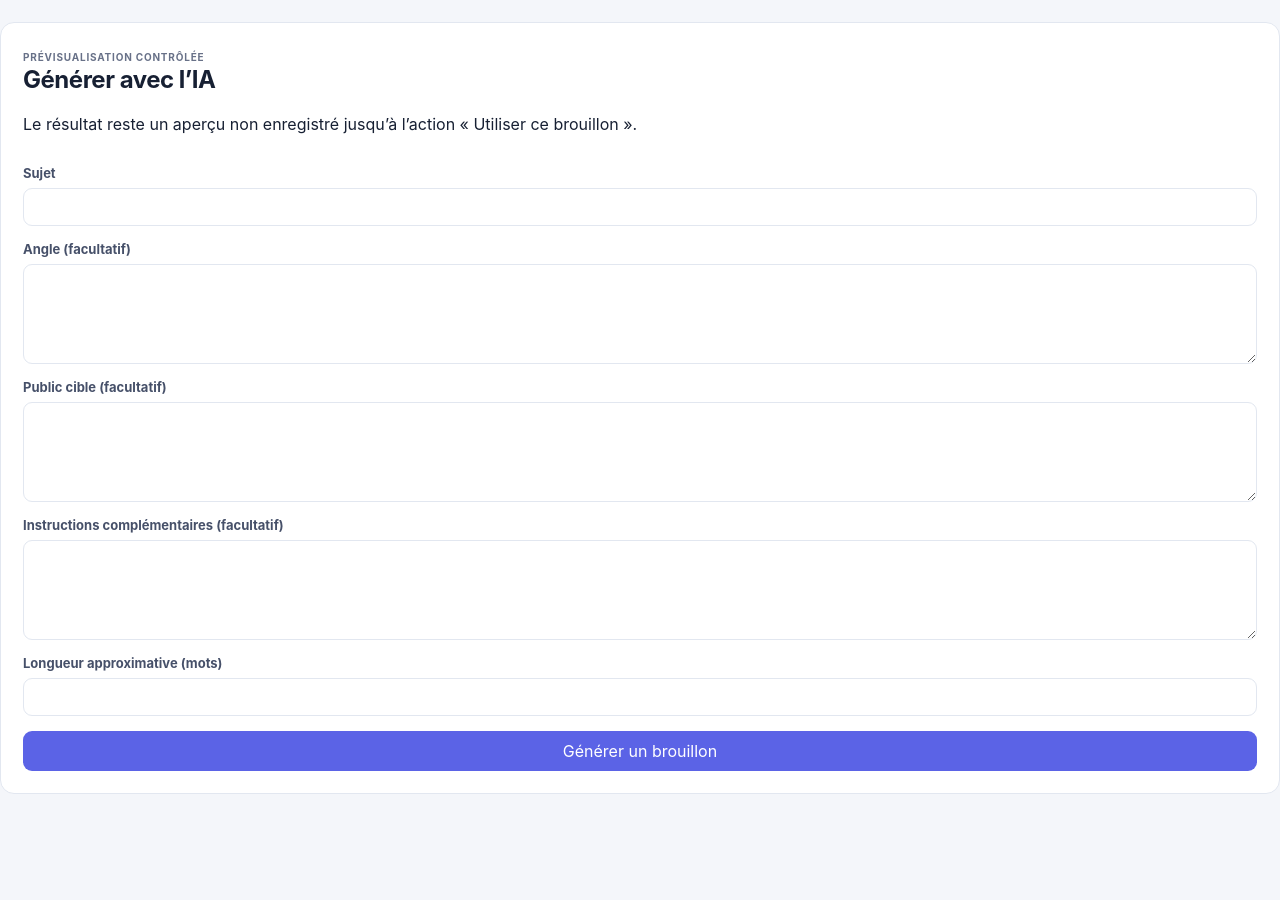
Génération d’article contrôlée Phase 4B › shows the normalized API error without rendering secrets
In the field labelled "Sujet": [640, 207] box [23,188,1257,226], type "Sujet contrôlé"
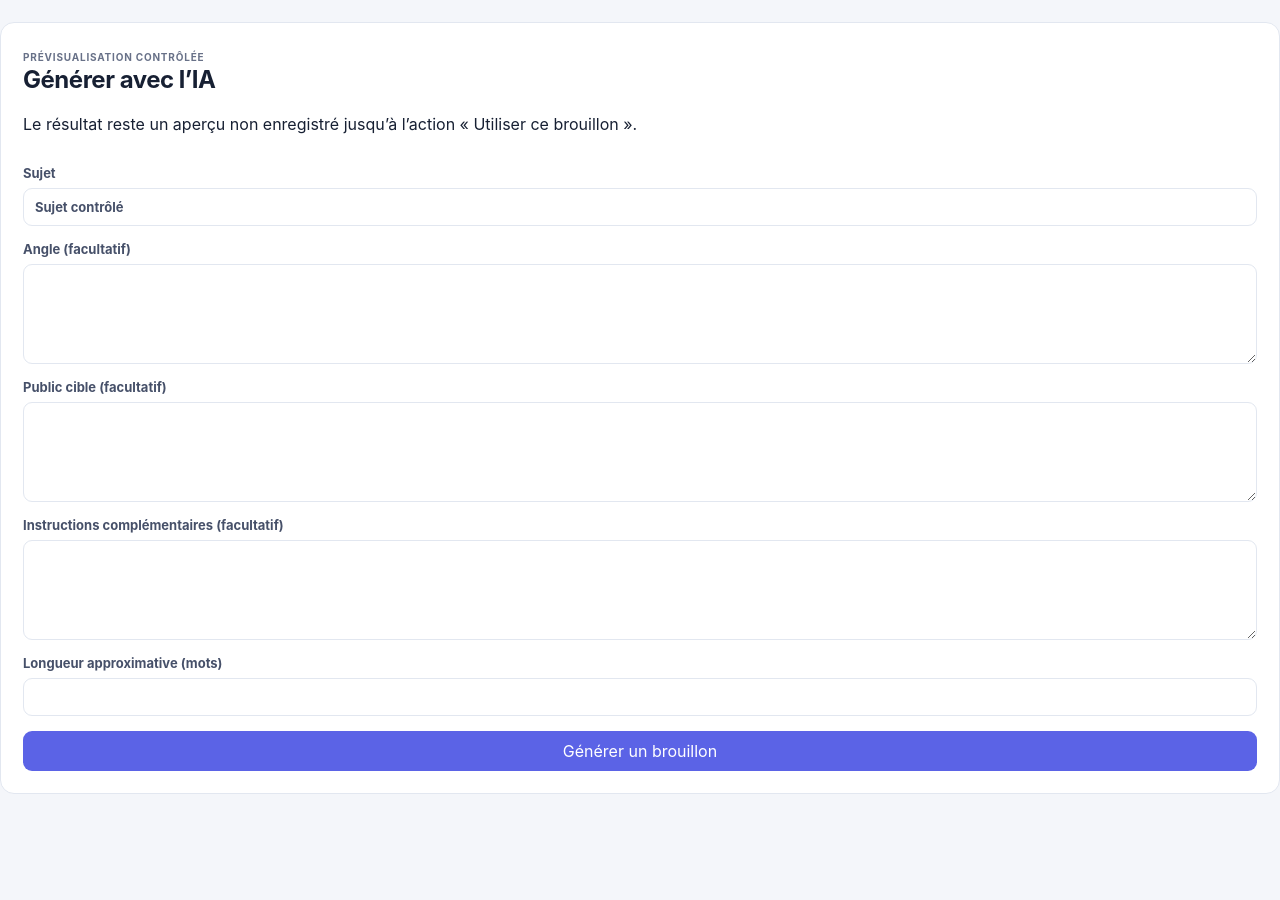
Click the button "Générer un brouillon": [640, 751] box [23,731,1257,771]
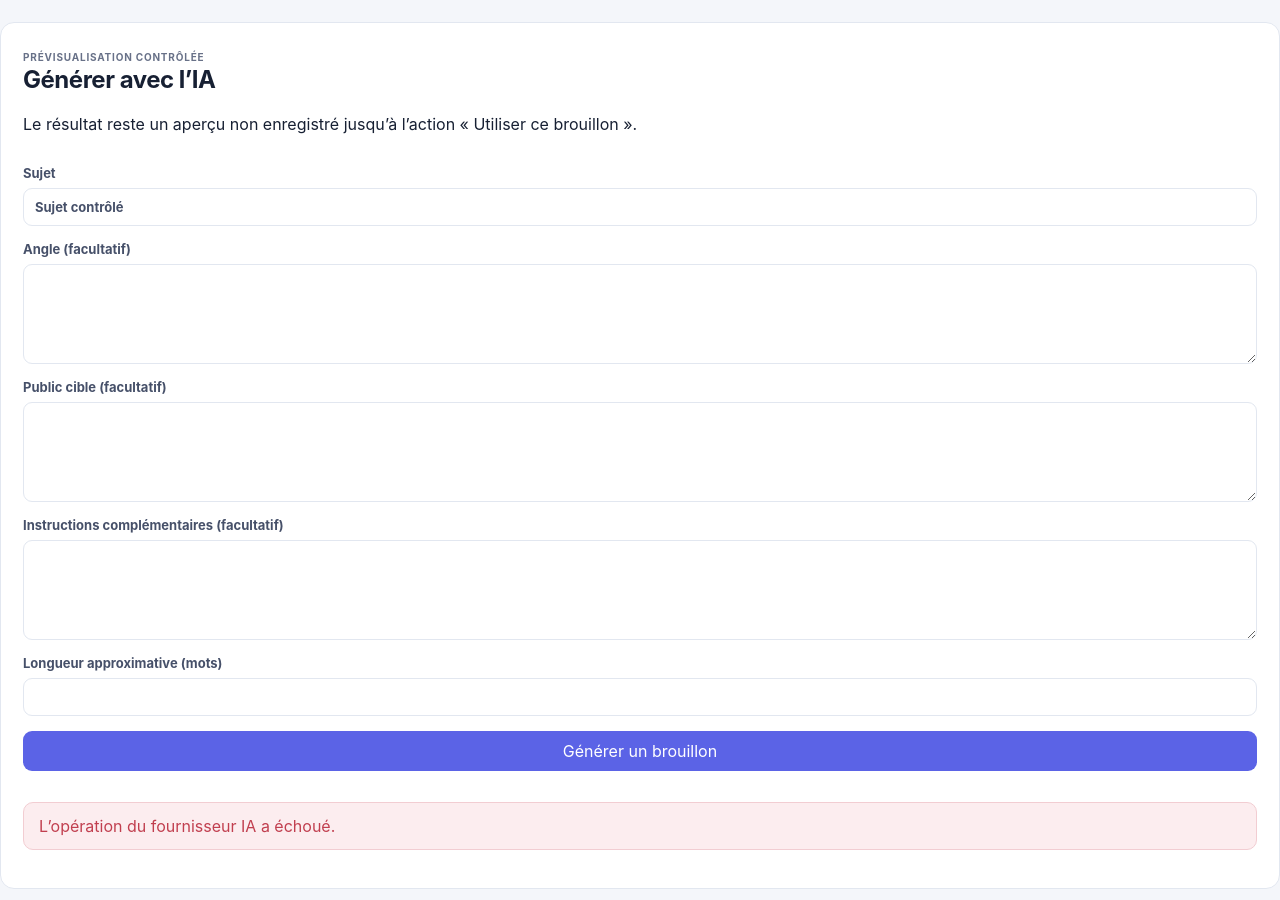
Check: the message reads "L’opération du fournisseur IA a échoué.", box [39,816,335,836]
